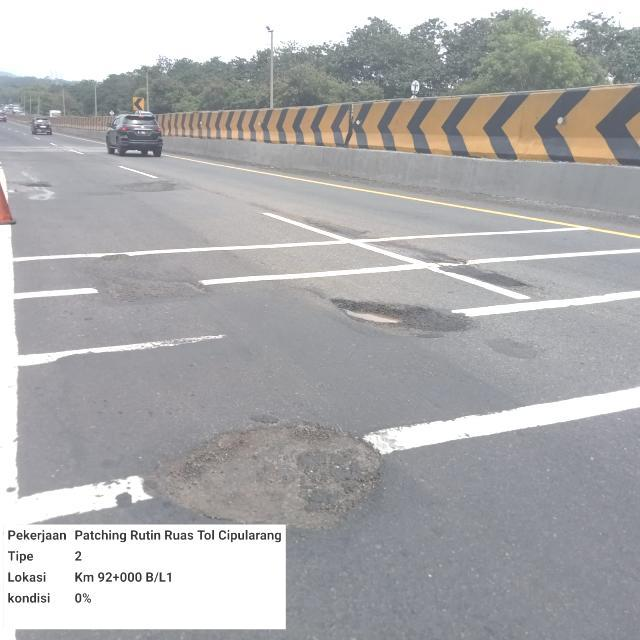Buraco: (140, 418, 388, 534), (327, 298, 474, 334), (88, 272, 214, 306), (365, 240, 469, 266), (111, 179, 181, 194), (24, 182, 55, 189)
